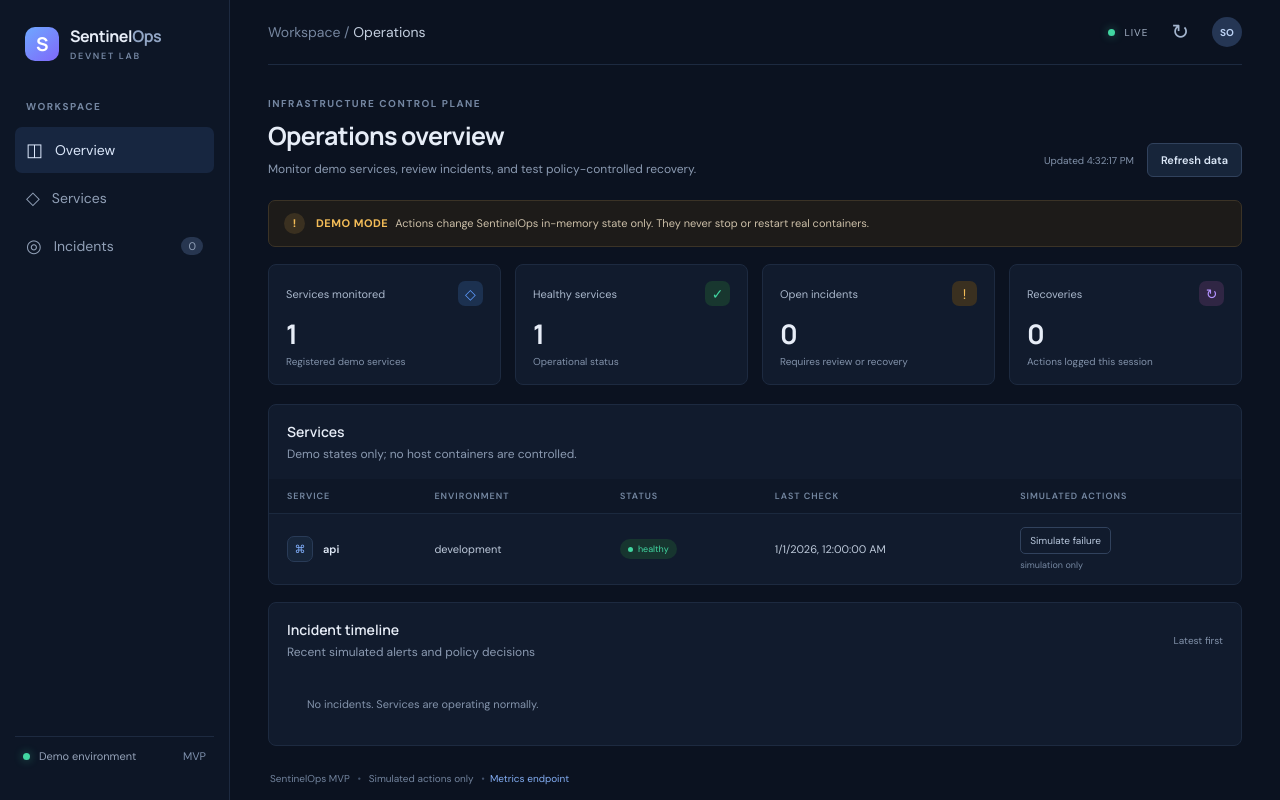
Test case: operations dashboard › renders service and summary data and refreshes after a simulated action
Expected: the text "development" is shown, x1=416 y1=514 x2=602 y2=584
Click the button with aria-label "Simulate failure for api" at (1066, 540), box x1=1020 y1=527 x2=1111 y2=554
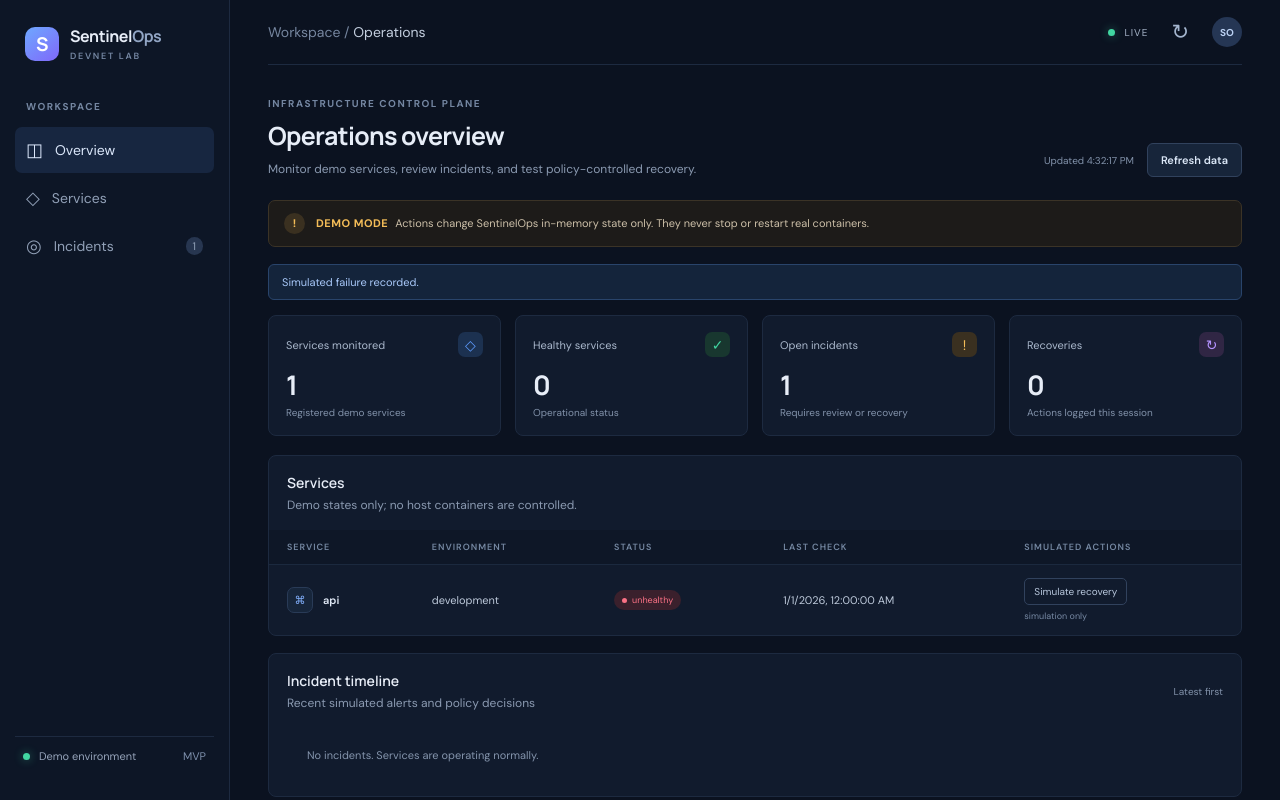
Result: the button with aria-label "Simulate recovery for api" is shown at x1=1024 y1=578 x2=1127 y2=605
Result: the text "Simulated failure recorded." is shown at x1=268 y1=264 x2=1242 y2=300
